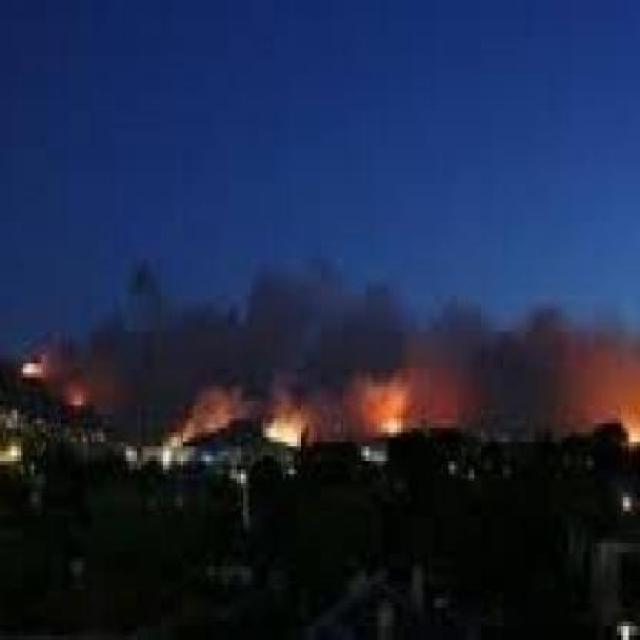Fire: (150, 334, 480, 498)
